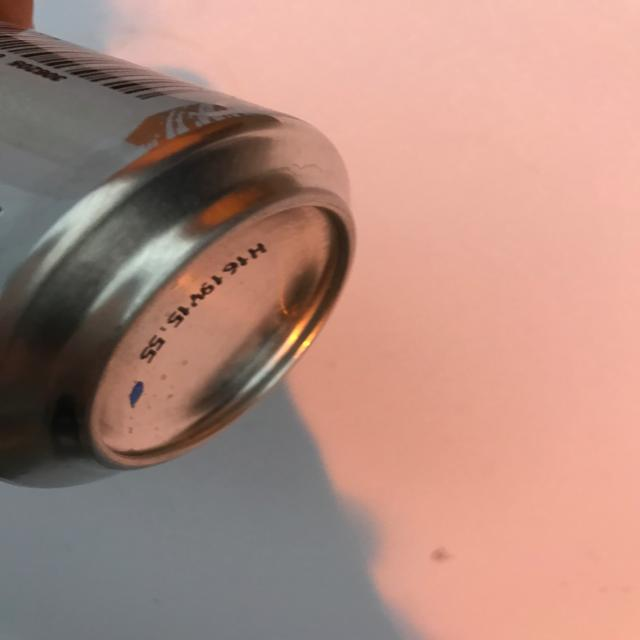metal: (1, 20, 357, 488)
